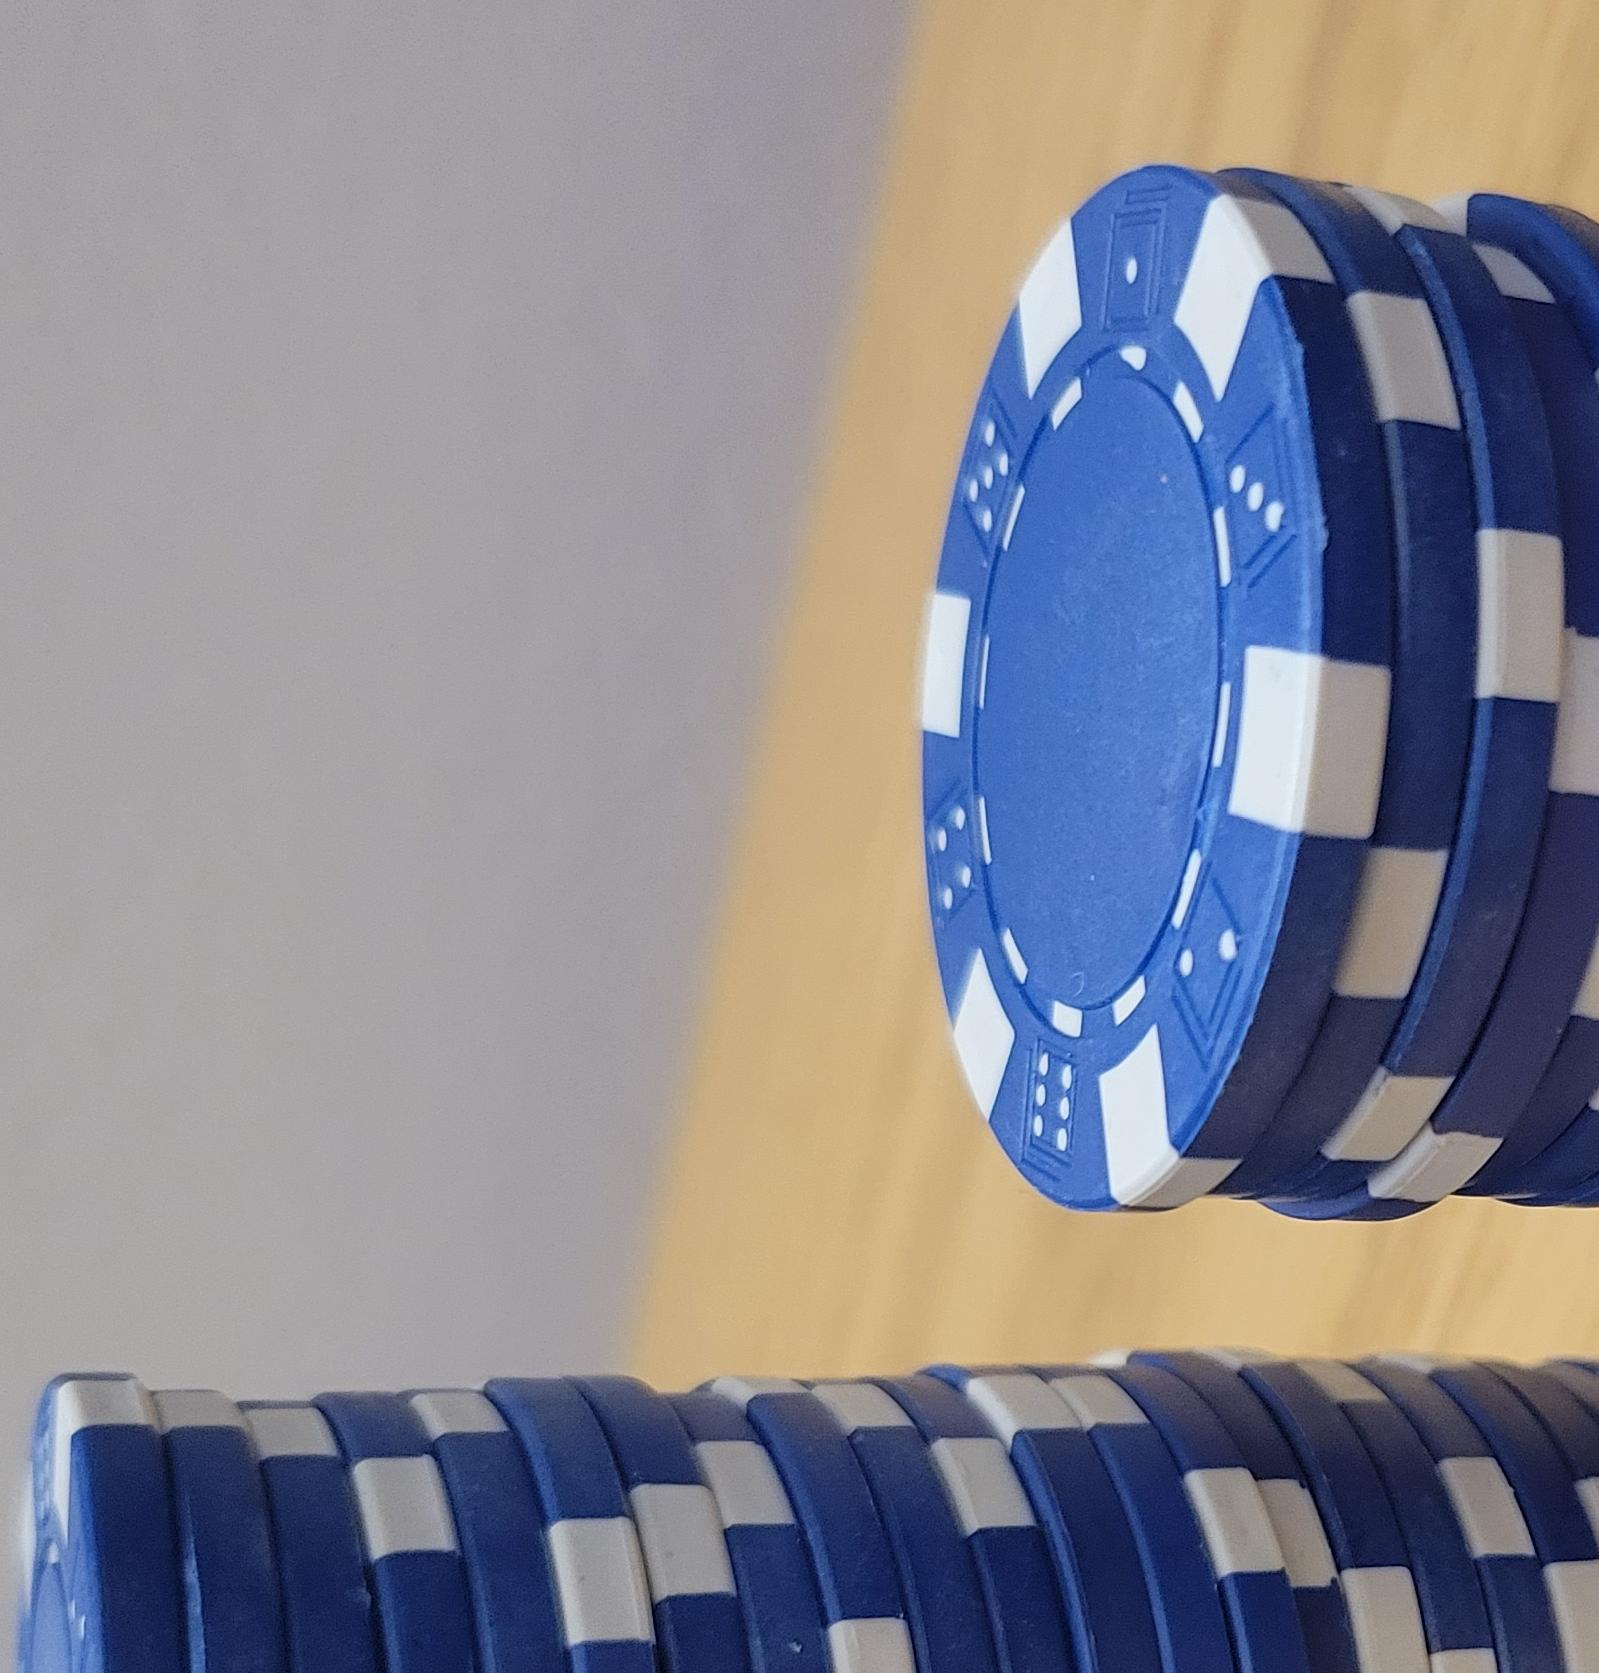Chip: (1, 87, 1089, 1673)
